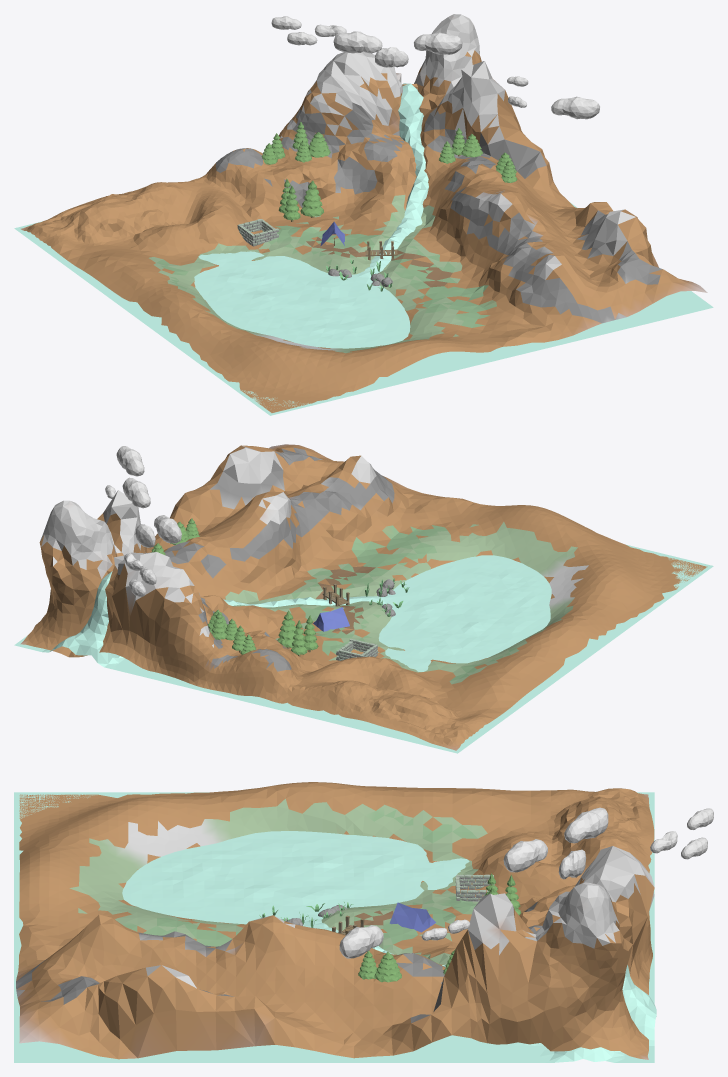
File: low-poly_lake_scene.glb
3 views of the same model, one above another, from view 1: azimuth 30°, elevation 25°; view 2: azimuth 150°, elevation 25°; view 3: azimuth 270°, elevation 25° (orthographic). The views are drawn at different scales.
Parts seen in each view (by area): view 1: Plane, Plane.001, Icosphere.018, Icosphere.021, Icosphere.017; view 2: Plane, Plane.001, Icosphere.017, Icosphere.021, Plane.018, Icosphere.018; view 3: Plane, Plane.001, Icosphere.018, Icosphere.021, Icosphere.017, Plane.018, Icosphere.016, Icosphere.004.
Boxes of the visible parts, <box> form: Plane: <box>21,14,707,412</box>; Plane.001: <box>14,83,713,415</box>; Icosphere.018: <box>333,31,382,53</box>; Icosphere.021: <box>551,96,599,119</box>; Icosphere.017: <box>414,32,462,54</box>; Plane: <box>20,444,707,750</box>; Plane.001: <box>14,544,713,753</box>; Icosphere.017: <box>122,477,150,508</box>; Icosphere.021: <box>116,446,144,476</box>; Plane.018: <box>313,607,349,631</box>; Icosphere.018: <box>154,515,181,543</box>; Plane: <box>16,782,654,1059</box>; Plane.001: <box>14,792,656,1062</box>; Icosphere.018: <box>564,807,608,843</box>; Icosphere.021: <box>339,925,383,958</box>; Icosphere.017: <box>503,839,547,872</box>; Plane.018: <box>389,902,435,932</box>; Icosphere.016: <box>558,849,586,879</box>; Icosphere.004: <box>374,952,401,982</box>.
Bounding box in the file's own units: 7662 × 2631 × 8035.
